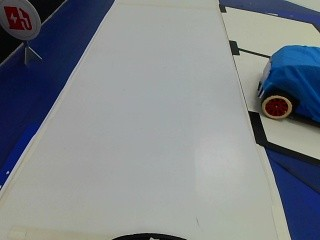battery: (0, 0, 44, 42)
car: (252, 42, 318, 121)
